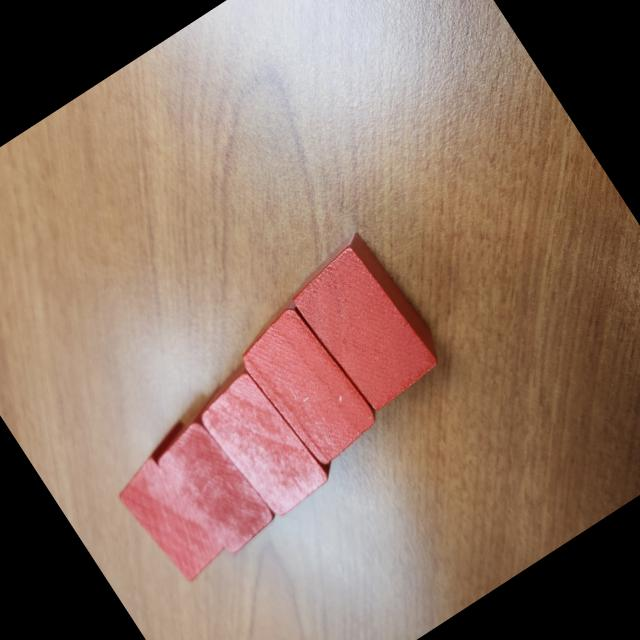red: (278, 225, 453, 418), (225, 289, 389, 475), (140, 386, 302, 563), (184, 352, 338, 527), (101, 418, 258, 589)
